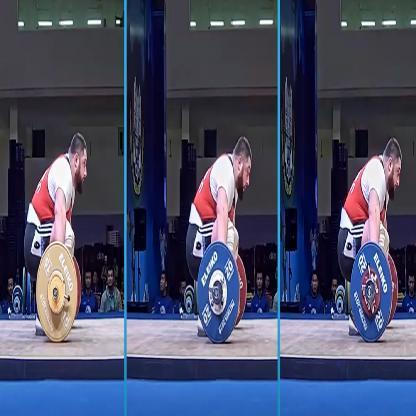barbell: (197, 241, 247, 345), (350, 242, 398, 342), (36, 241, 81, 344)
